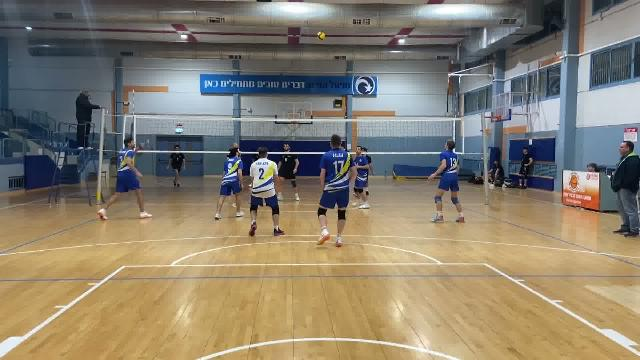ball: (315, 31, 327, 42)
